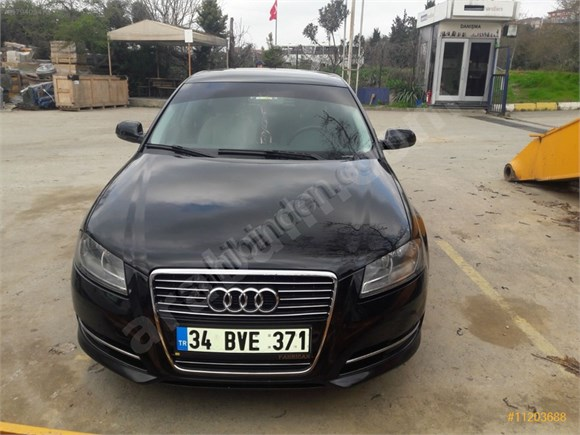audi: (201, 286, 283, 316)
